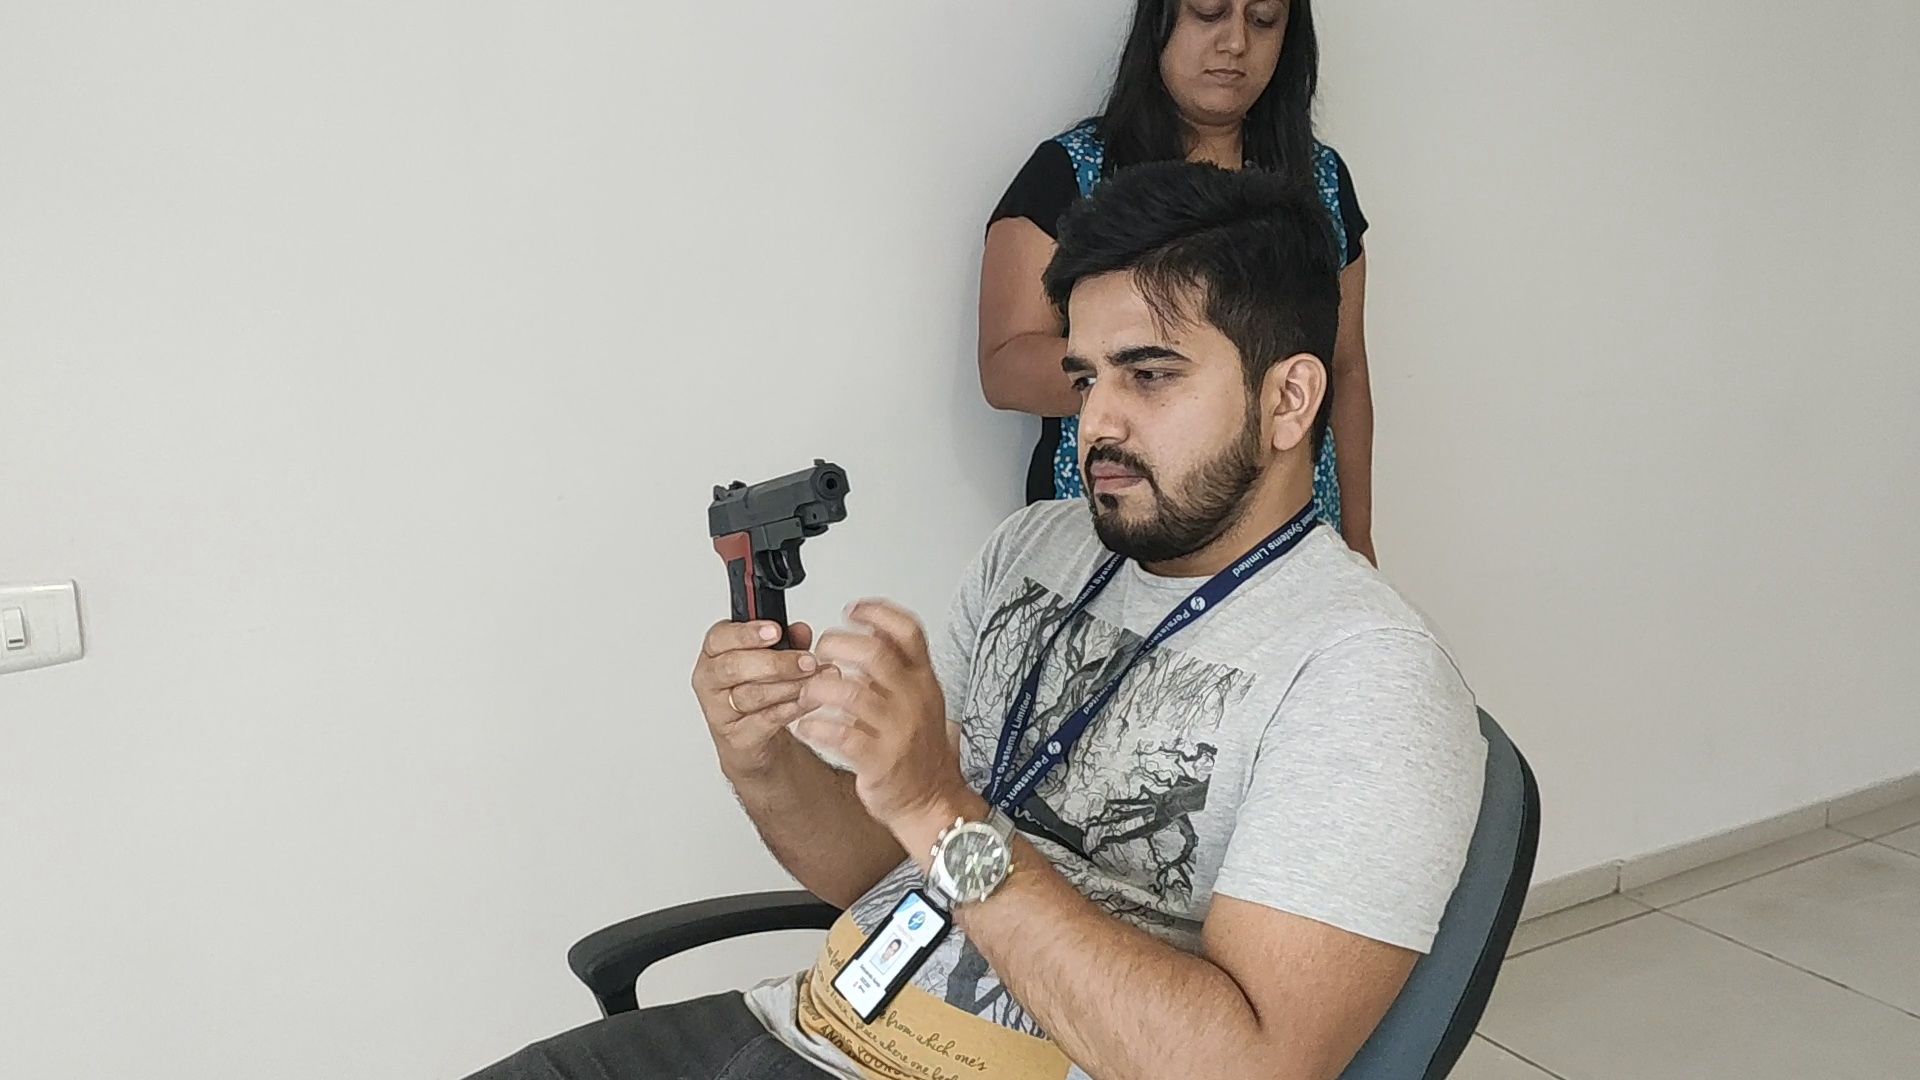gun: (705, 460, 851, 621)
